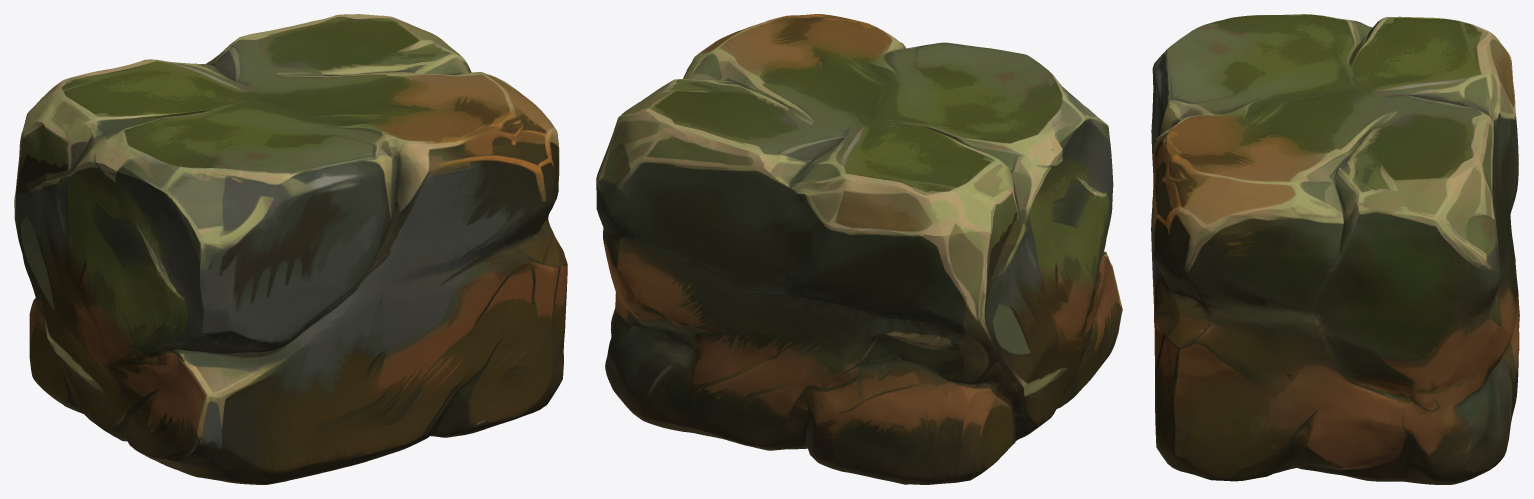
File: item_stone.glb
The picture shows the model from 3 angles, left to right: view 1: azimuth 30°, elevation 25°; view 2: azimuth 150°, elevation 25°; view 3: azimuth 270°, elevation 25°; orthographic projection. The views are drawn at different scales.
Parts seen in each view (by area): view 1: item_stone; view 2: item_stone; view 3: item_stone.
Boxes of the visible parts, <box> form: item_stone: <box>14,14,567,484</box>; item_stone: <box>596,14,1122,484</box>; item_stone: <box>1151,14,1519,484</box>.
Size of the model in its own units: 0.2 by 0.1474 by 0.1568.
1 material, 1 textured.
